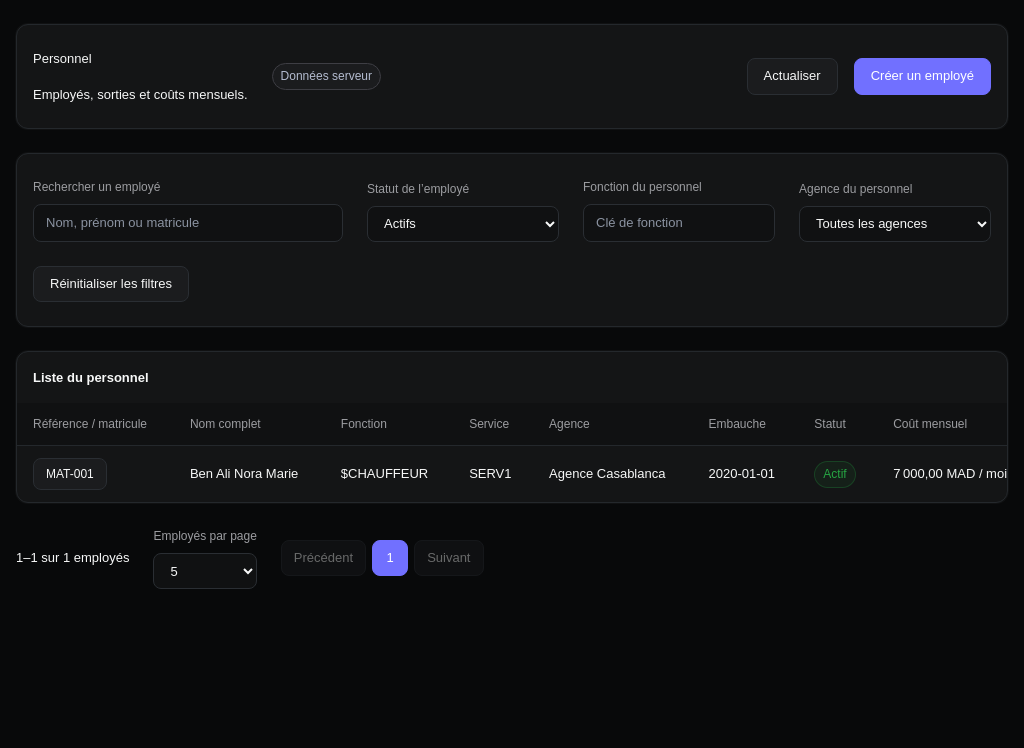
it: Personnel connected presentation › shows detail failure with a retry and does not mount an editable partial row
Click the button "MAT-001".
click(70, 474)  # box [33, 458, 107, 490]
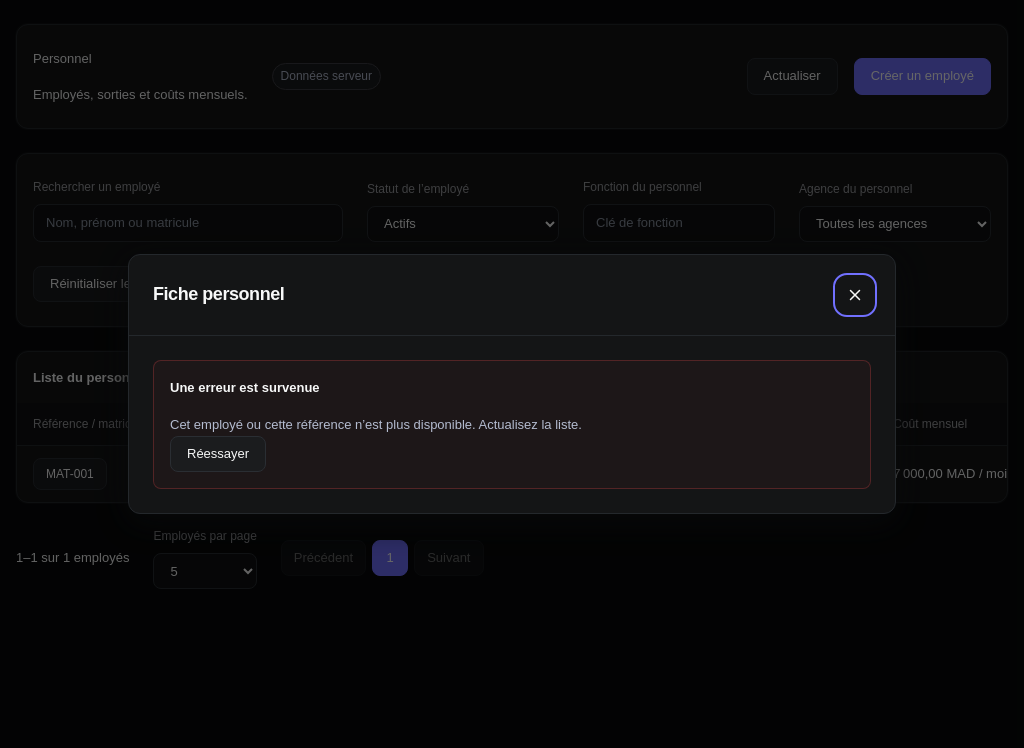
Expected: the text "n’est plus disponible" is shown, [170, 417, 582, 432]
Click the button "Réessayer".
click(218, 454)  # box [170, 436, 266, 472]
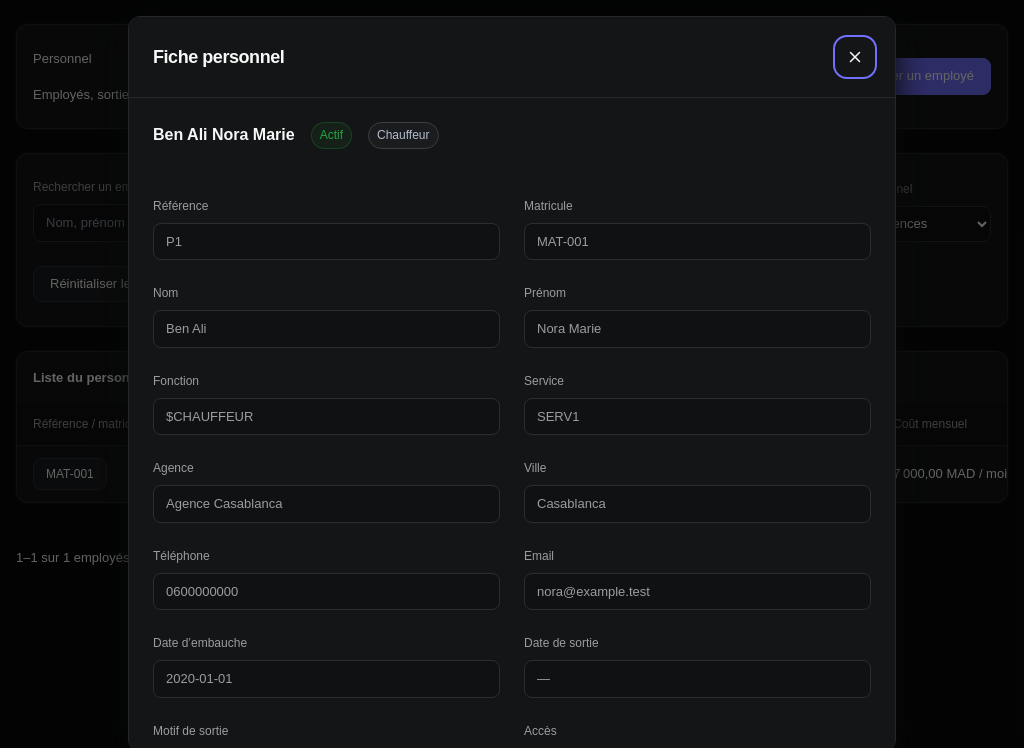
Expected: the field labelled "Nom" is shown, [153, 310, 500, 348]
